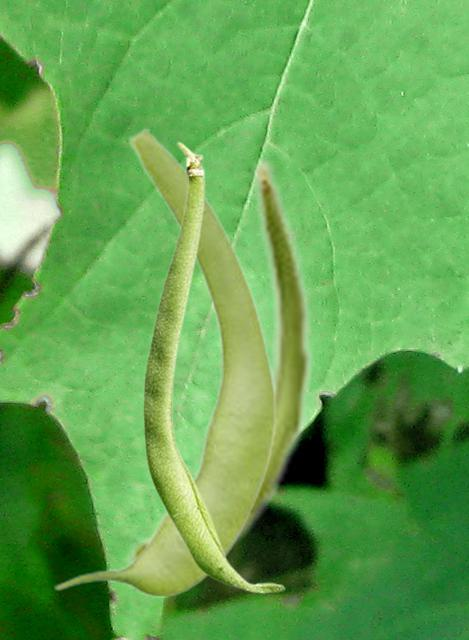french_bean: (52, 125, 277, 596), (126, 156, 314, 564), (143, 141, 285, 593)
